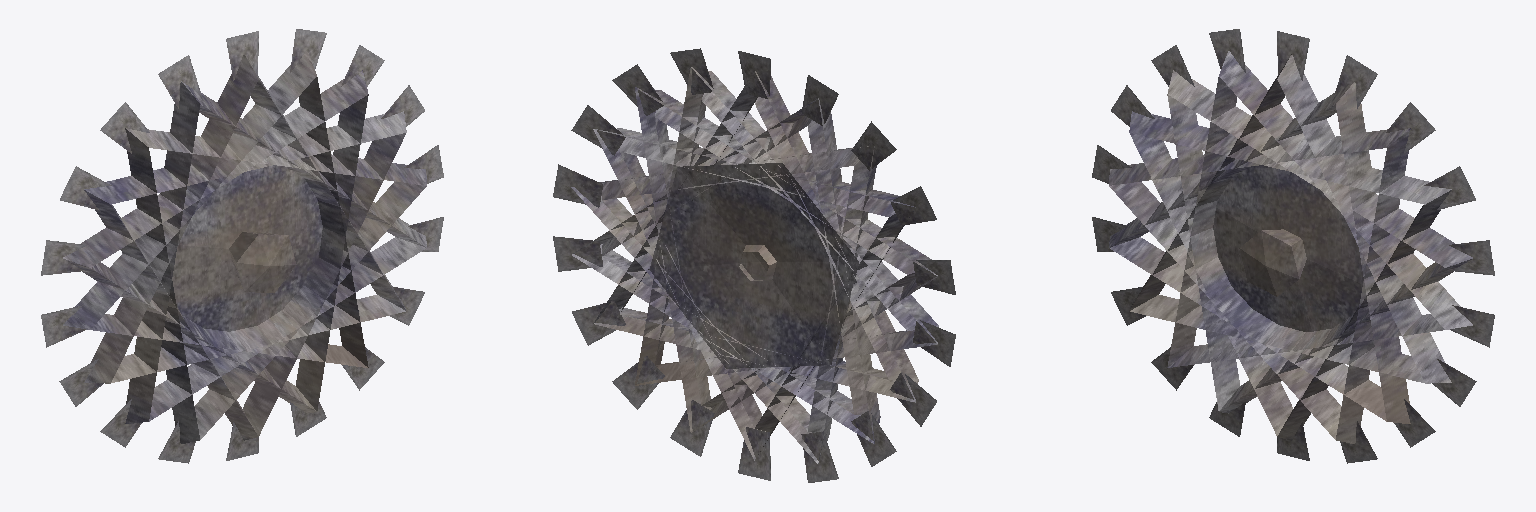
3 renders of one model, left to right at view 1: azimuth 30°, elevation 25°; view 2: azimuth 150°, elevation 25°; view 3: azimuth 330°, elevation 25°, orthographic.
Visible parts, largest first — view 1: Plane; view 2: Plane; view 3: Plane.
Part boxes in pixels (bbox=[...]): Plane: bbox=[41, 29, 443, 463]; Plane: bbox=[553, 48, 955, 482]; Plane: bbox=[1092, 29, 1494, 463].
Bounding box in the file's own units: 3.2 × 3.2 × 0.3839.
Materials: 1 (1 with a texture image).